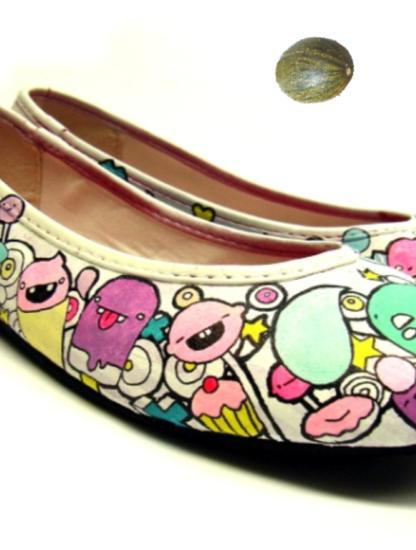Melon: (277, 33, 352, 108)
